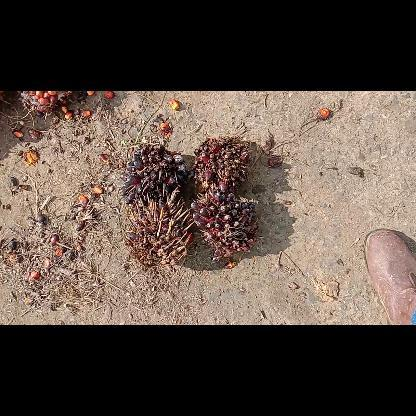TBS abnormal: (124, 187, 192, 266), (119, 144, 193, 210), (192, 191, 258, 259), (193, 137, 249, 195)
